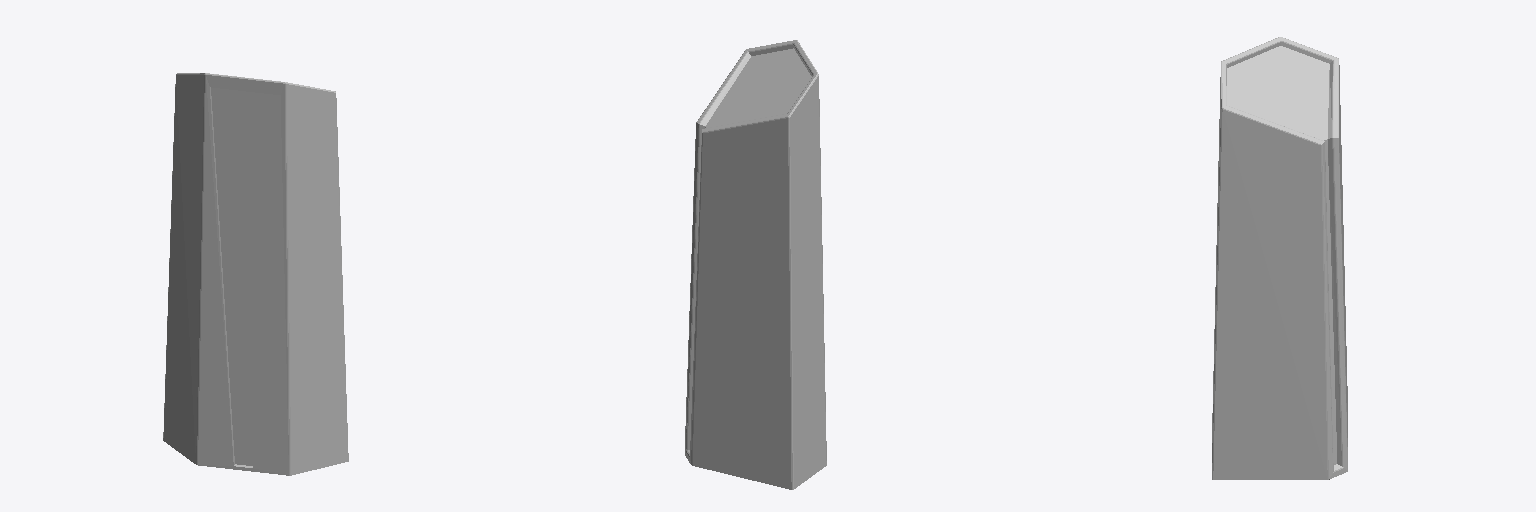
The model's file is skyscraper_02.obj.
3 views of the same model, side by side, from view 1: azimuth 30°, elevation 25°; view 2: azimuth 150°, elevation 25°; view 3: azimuth 270°, elevation 25° (orthographic).
Visible parts, largest first — view 1: Skyscraper_2; view 2: Skyscraper_2; view 3: Skyscraper_2.
Boxes of the visible parts, x1=… form: Skyscraper_2: x1=163, y1=73, x2=348, y2=475; Skyscraper_2: x1=685, y1=40, x2=826, y2=489; Skyscraper_2: x1=1212, y1=37, x2=1347, y2=479.
Bounding box in the file's own units: 1 × 3.14 × 1.